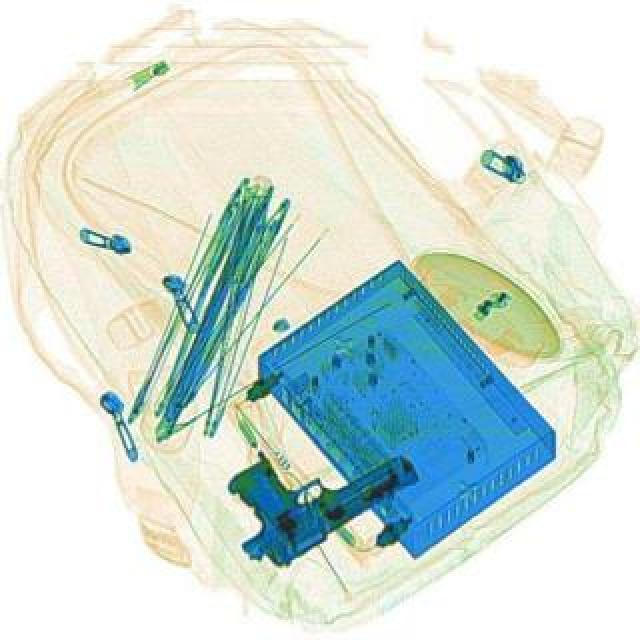gun: (206, 400, 430, 582)
